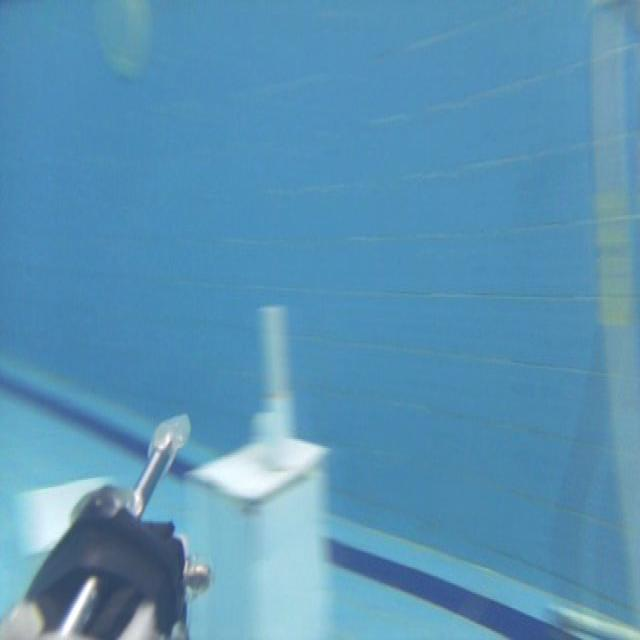Cube: (184, 430, 330, 640)
